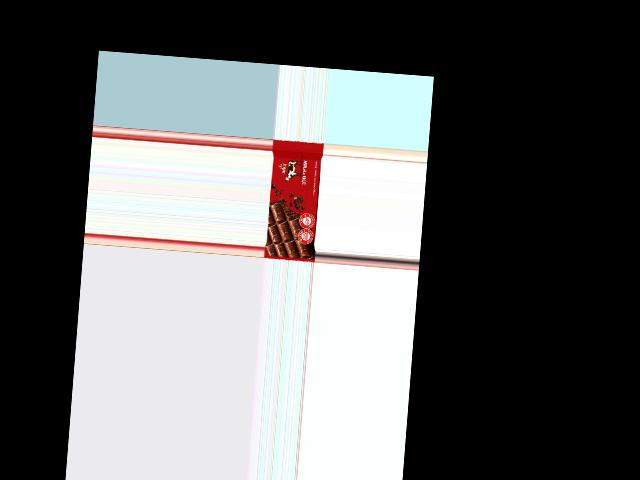chocolate: (265, 138, 324, 260)
